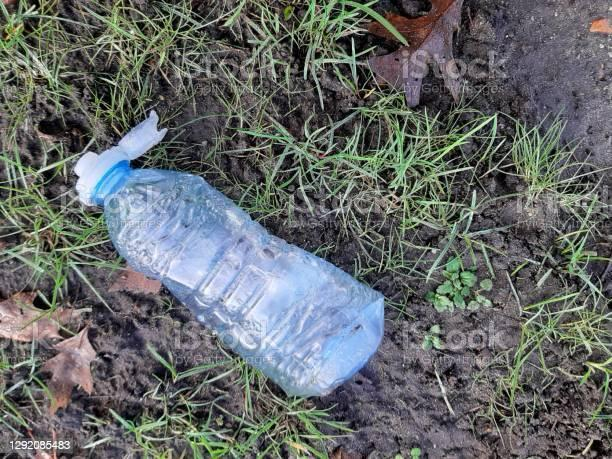bottle: (64, 92, 400, 438)
